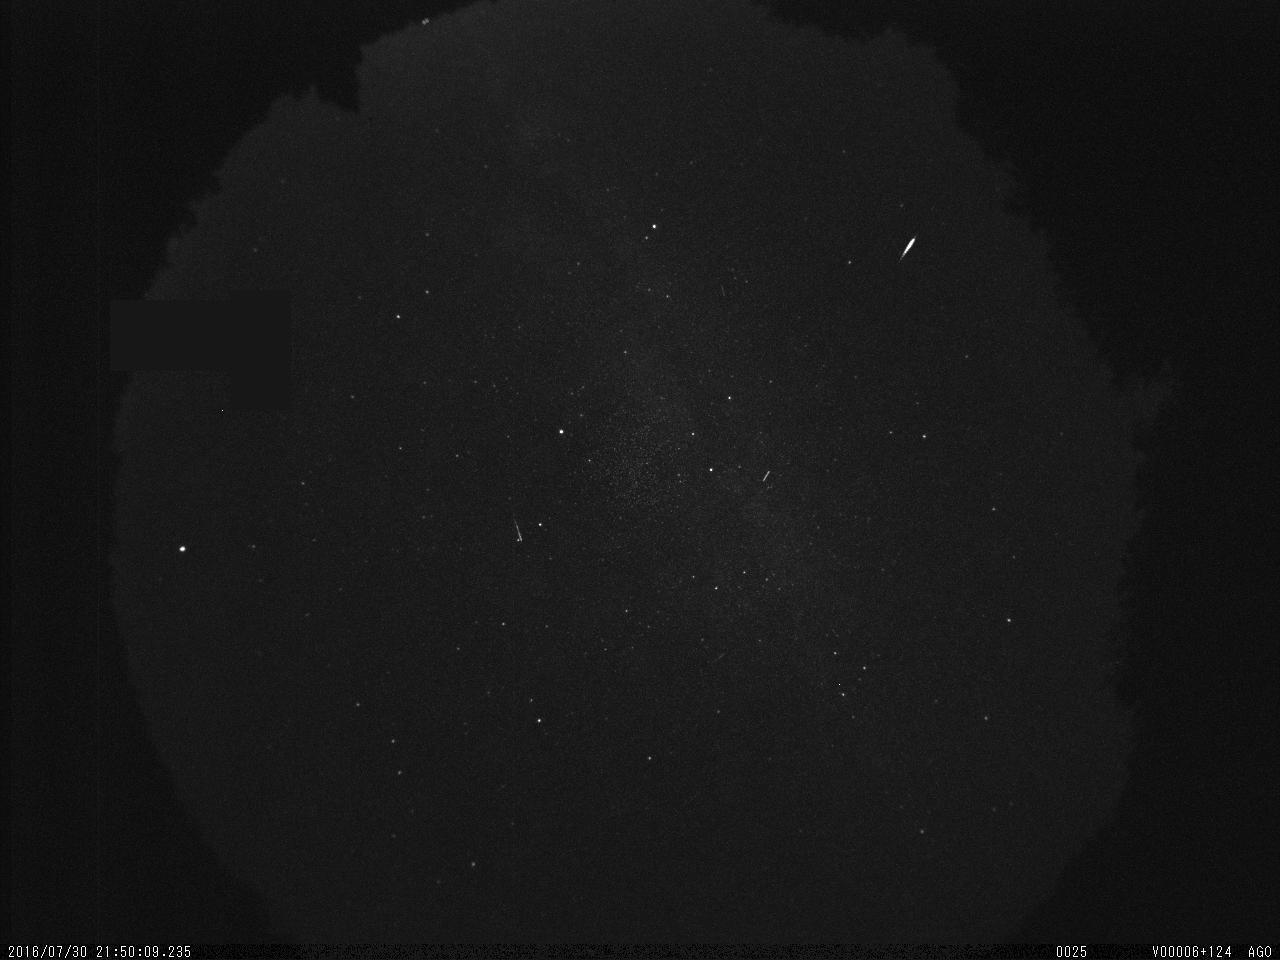meteor: (882, 205, 1016, 321)
